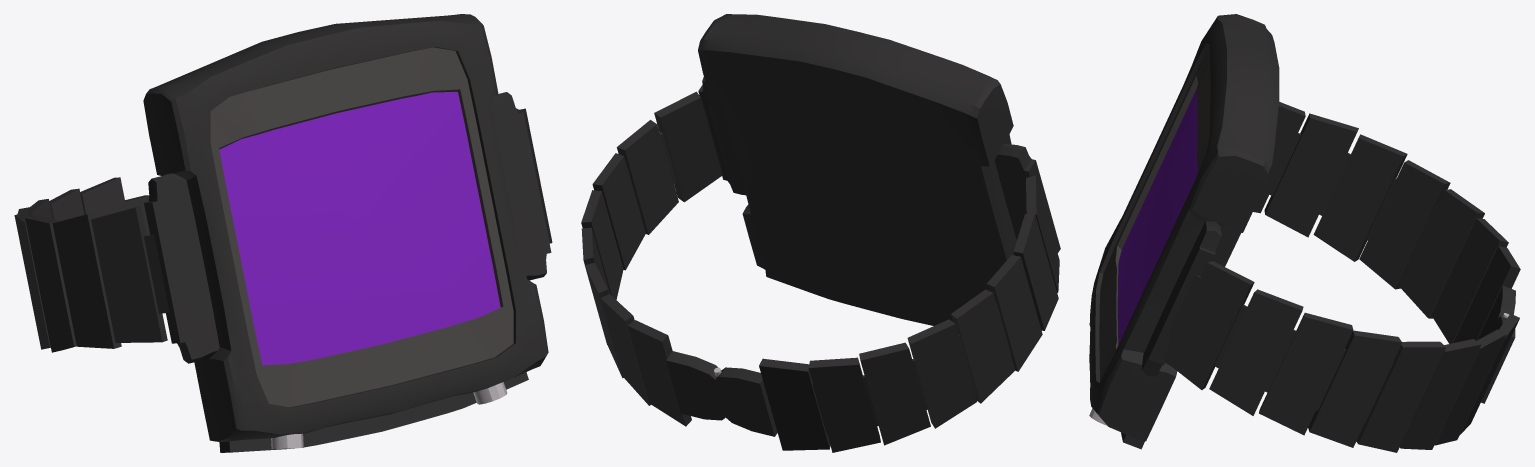
File: SM_DigitalWatch.fbx
3 renders of one model, left to right at view 1: azimuth 30°, elevation 25°; view 2: azimuth 150°, elevation 25°; view 3: azimuth 270°, elevation 25°, orthographic. The views are drawn at different scales.
Parts seen in each view (by area): view 1: Cube.001; view 2: Cube.001; view 3: Cube.001.
Boxes of the visible parts, box(x1,y1,x2,y2) form: Cube.001: box(14, 14, 552, 452); Cube.001: box(581, 14, 1060, 452); Cube.001: box(1089, 14, 1520, 452).
Bounding box in the file's own units: 29.33 × 22.1 × 26.03.
